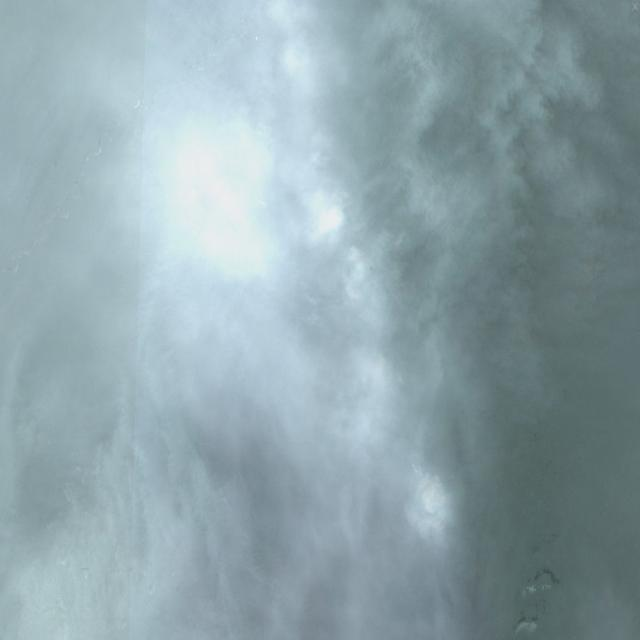fire: (232, 0, 453, 545)
